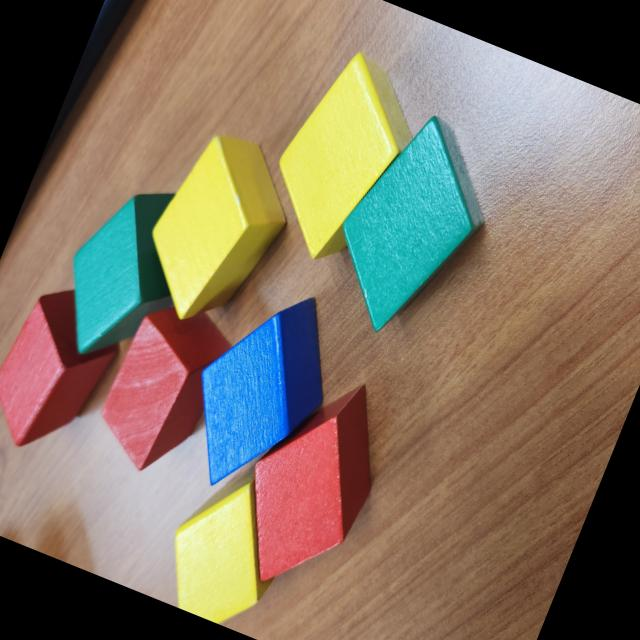blue: (161, 267, 358, 514)
green: (38, 166, 215, 383), (343, 117, 484, 330)
red: (214, 355, 408, 607), (84, 280, 245, 488), (0, 271, 134, 469)
yellow: (247, 39, 437, 279), (125, 121, 309, 343), (148, 442, 314, 637)
